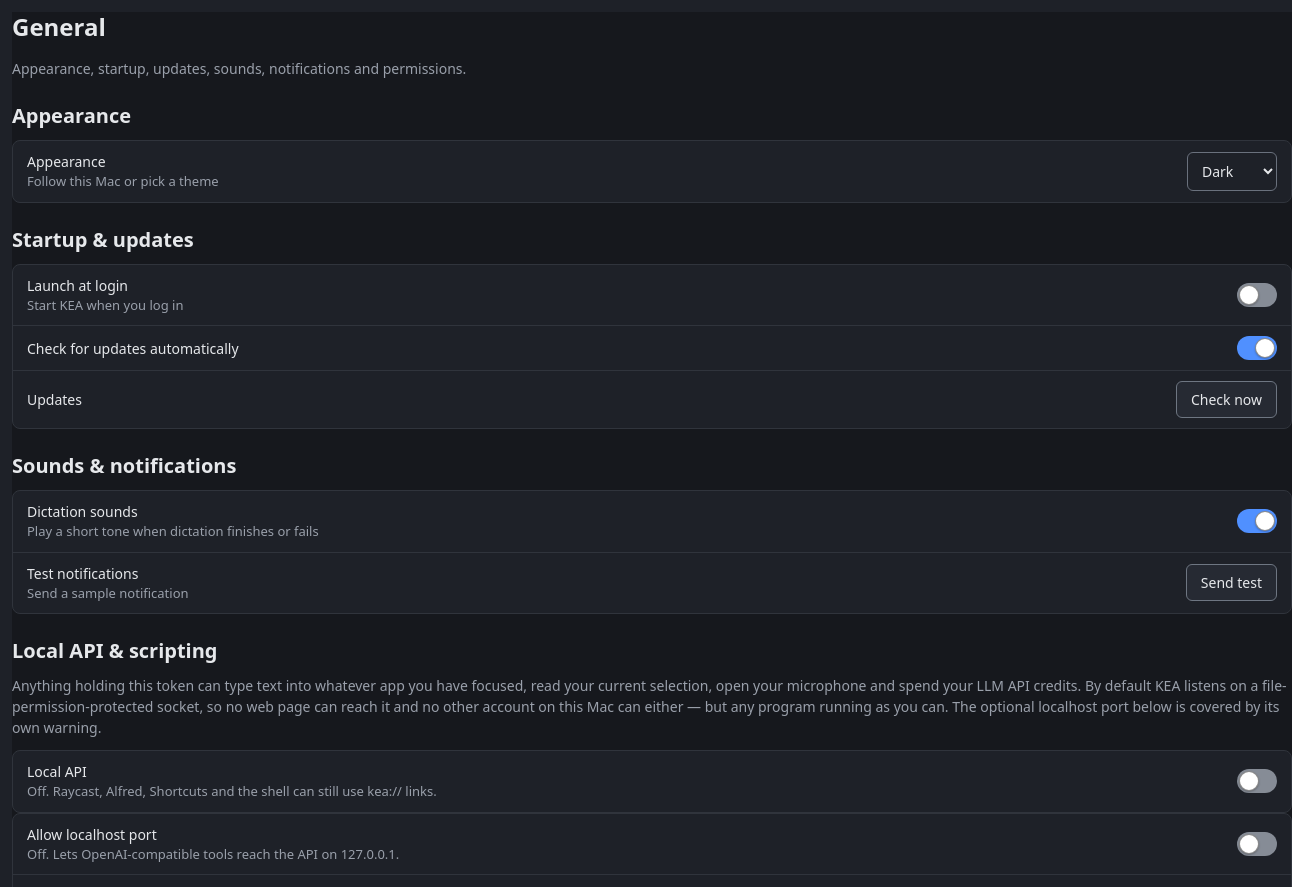
Test: GeneralPage › turns the local API on and reports what the backend says is listening
Click the switch named "Enable the local API" at point(1257, 781), box [1237,769,1277,793]
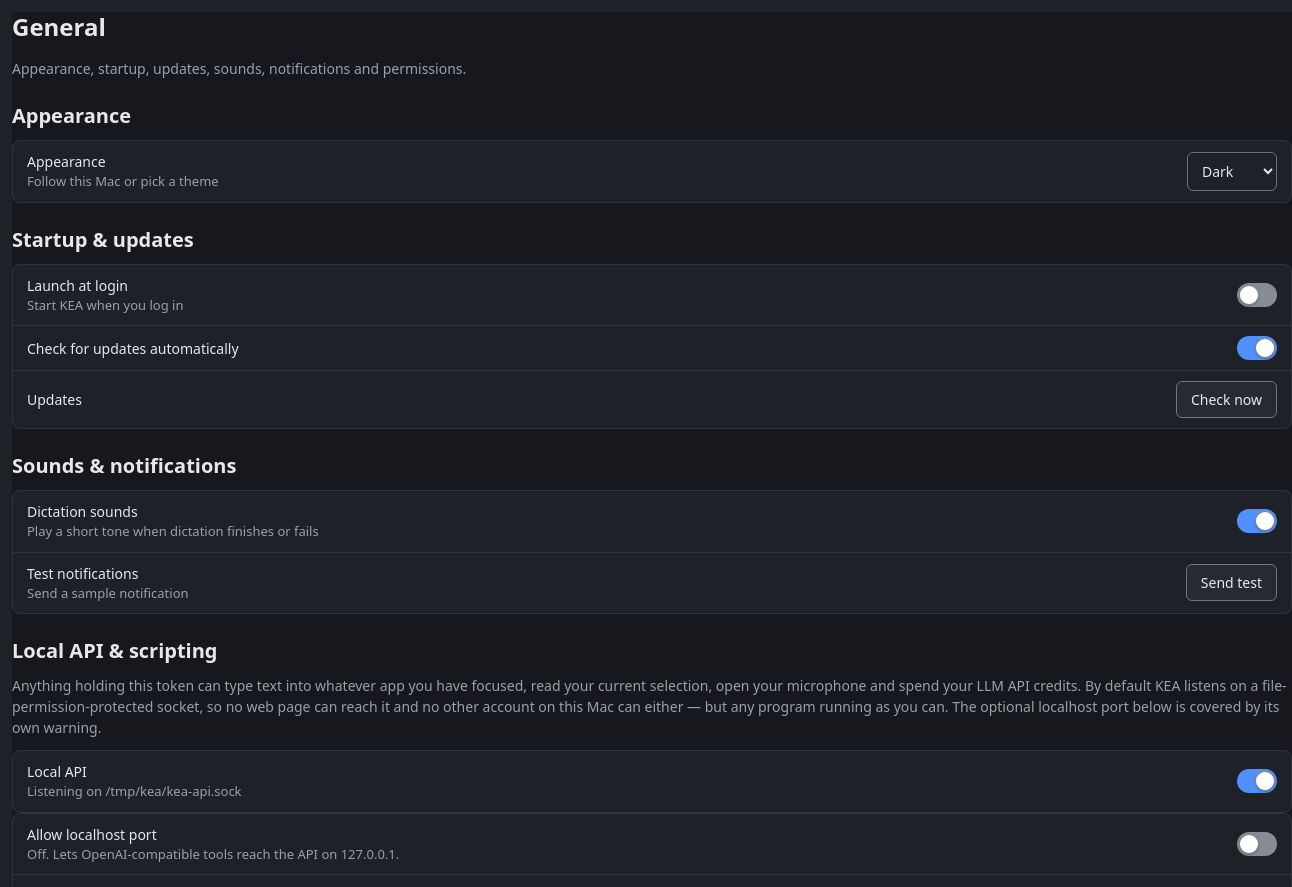
Result: the text "Listening on /tmp/kea/kea-api.sock" is shown at [27,782,242,802]
